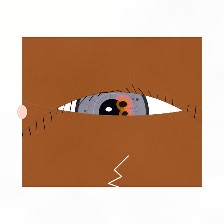foreign_body_visible: (108, 101, 141, 128)
